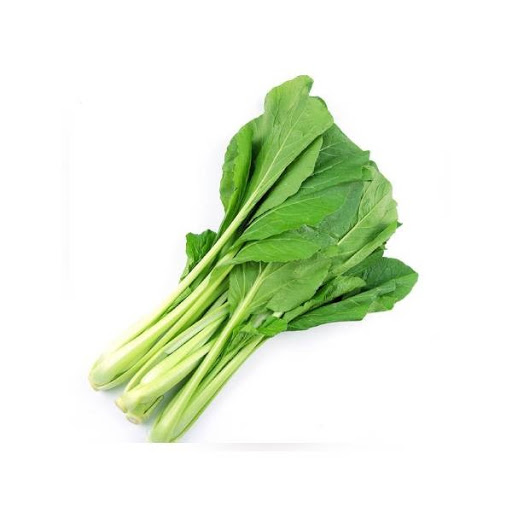Sawi: (84, 64, 449, 441)
